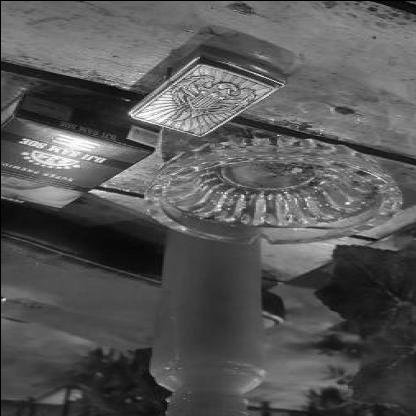objects: (2, 93, 158, 209)
